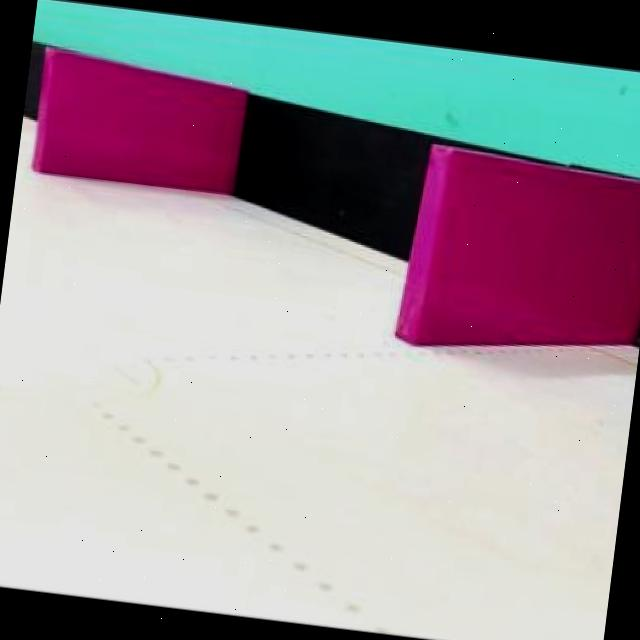xparking: (409, 162, 640, 376), (35, 77, 242, 206)
